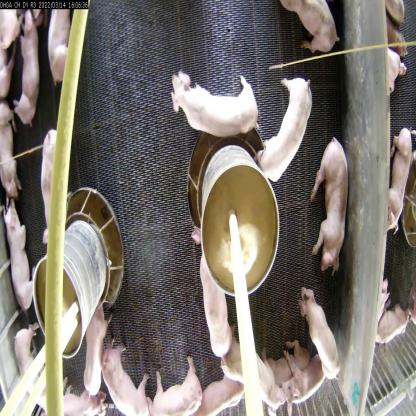Pig: (162, 60, 262, 142), (189, 209, 243, 360), (259, 68, 311, 190), (311, 132, 351, 276), (220, 333, 286, 414), (38, 127, 74, 248), (0, 192, 35, 316), (12, 7, 46, 128), (295, 292, 342, 376), (102, 350, 157, 415), (44, 0, 84, 87), (282, 352, 334, 412), (149, 362, 207, 415), (200, 359, 250, 415), (86, 310, 111, 399)
